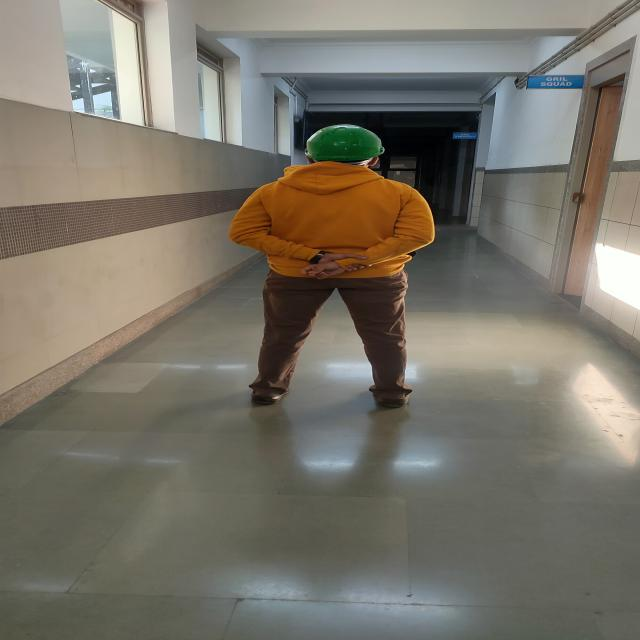no jacket: (226, 122, 437, 410)
